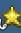star: (0, 1, 21, 33)
